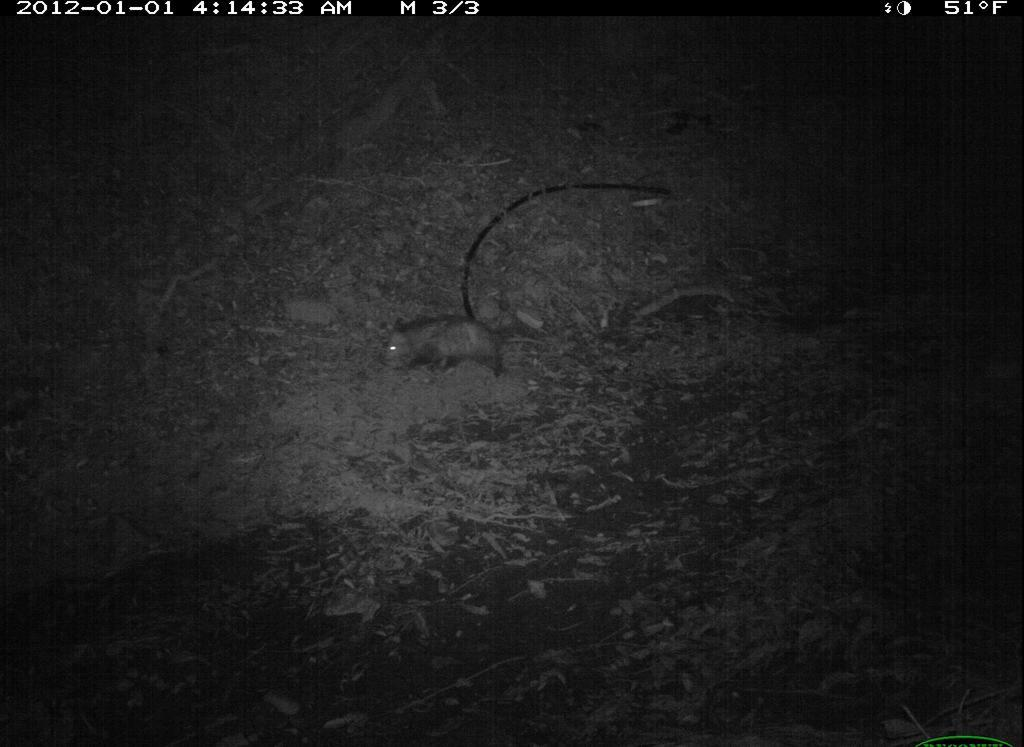opossum: (374, 309, 543, 384)
